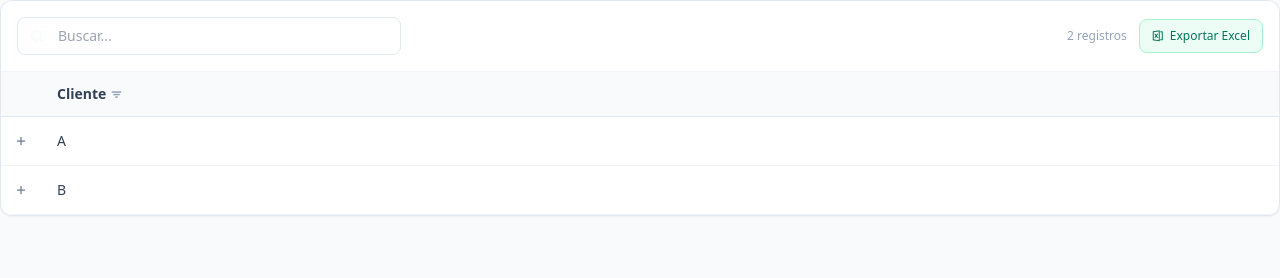
Test: DataTable filas extensibles (renderExpanded) › extiende y contrae el detalle de una fila
Expected: the text "detalle de A" is not shown
Click the 1st button named "Extender": (21, 141) [9,129,33,153]
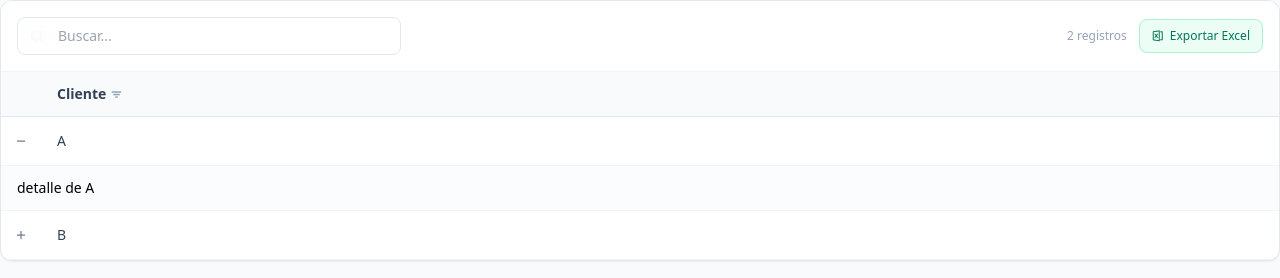
Now the text "detalle de A" is shown, box [17,178,94,197]
Click the button named "Contraer": (21, 141) [9,129,33,153]
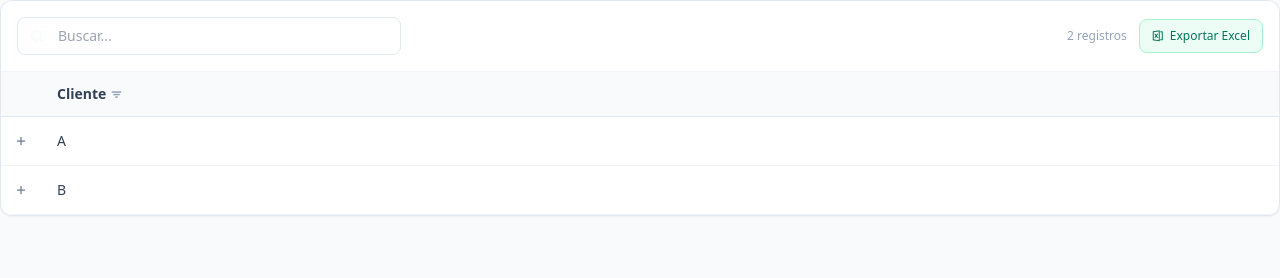
Now the text "detalle de A" is gone
